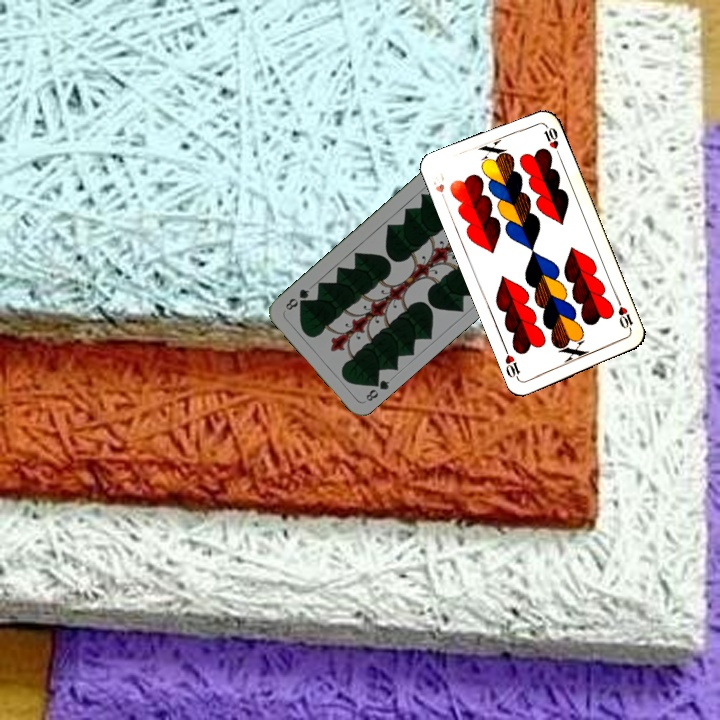G8: (362, 374, 392, 404)
H10: (614, 296, 636, 335), (429, 171, 450, 206)
